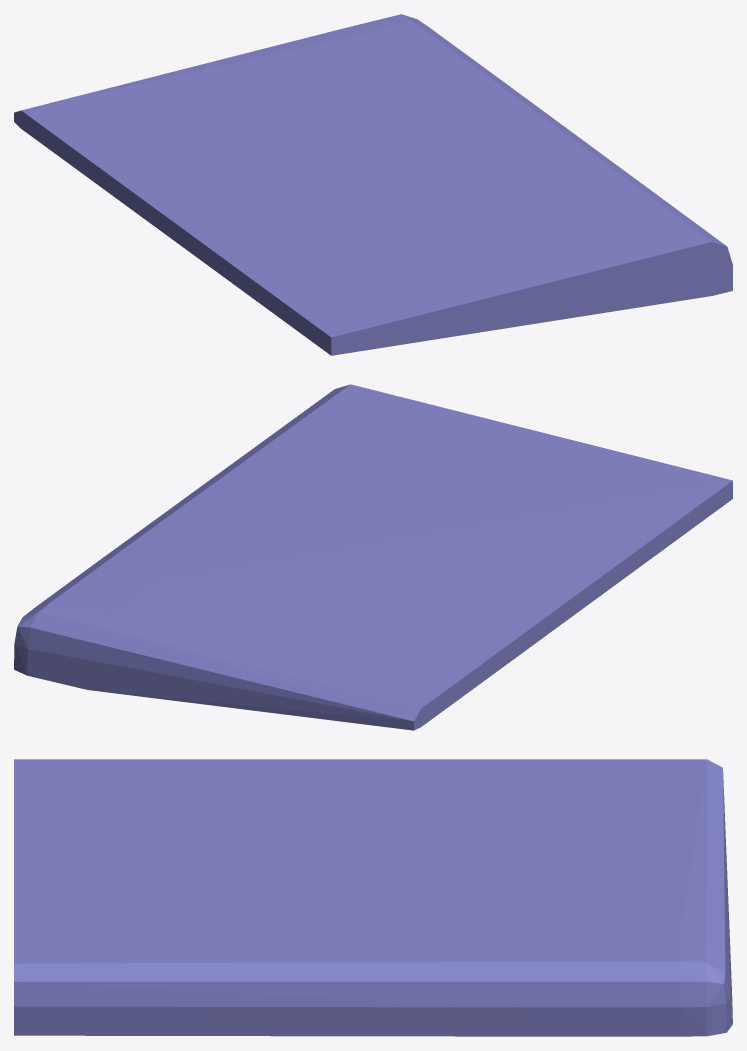
File: right_palm_part_12.obj
The picture shows the model from 3 angles, top to bottom: view 1: azimuth 30°, elevation 25°; view 2: azimuth 150°, elevation 25°; view 3: azimuth 270°, elevation 25°; orthographic projection. The views are drawn at different scales.
Size of the model in its own units: 10.6 by 1.41 by 14.65.
